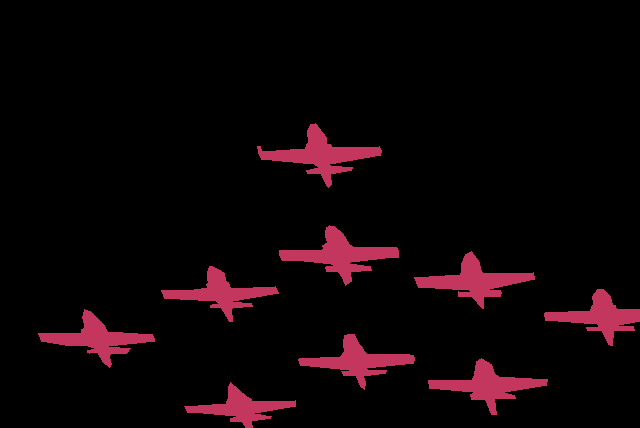Airplane: (257, 123, 381, 187), (279, 225, 399, 285), (414, 251, 535, 308), (428, 358, 548, 415), (38, 309, 154, 367), (298, 334, 415, 390), (161, 266, 279, 321), (544, 289, 640, 346), (184, 382, 295, 428)
